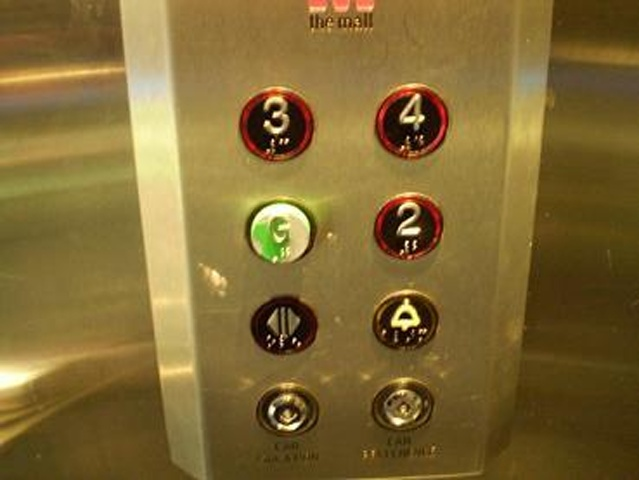2: (369, 188, 447, 264)
3: (235, 82, 316, 164)
4: (370, 80, 451, 162)
G: (242, 192, 320, 268)
alarm: (367, 286, 441, 355)
keyhole: (253, 380, 321, 439), (368, 375, 436, 434)
open: (247, 291, 321, 358)
